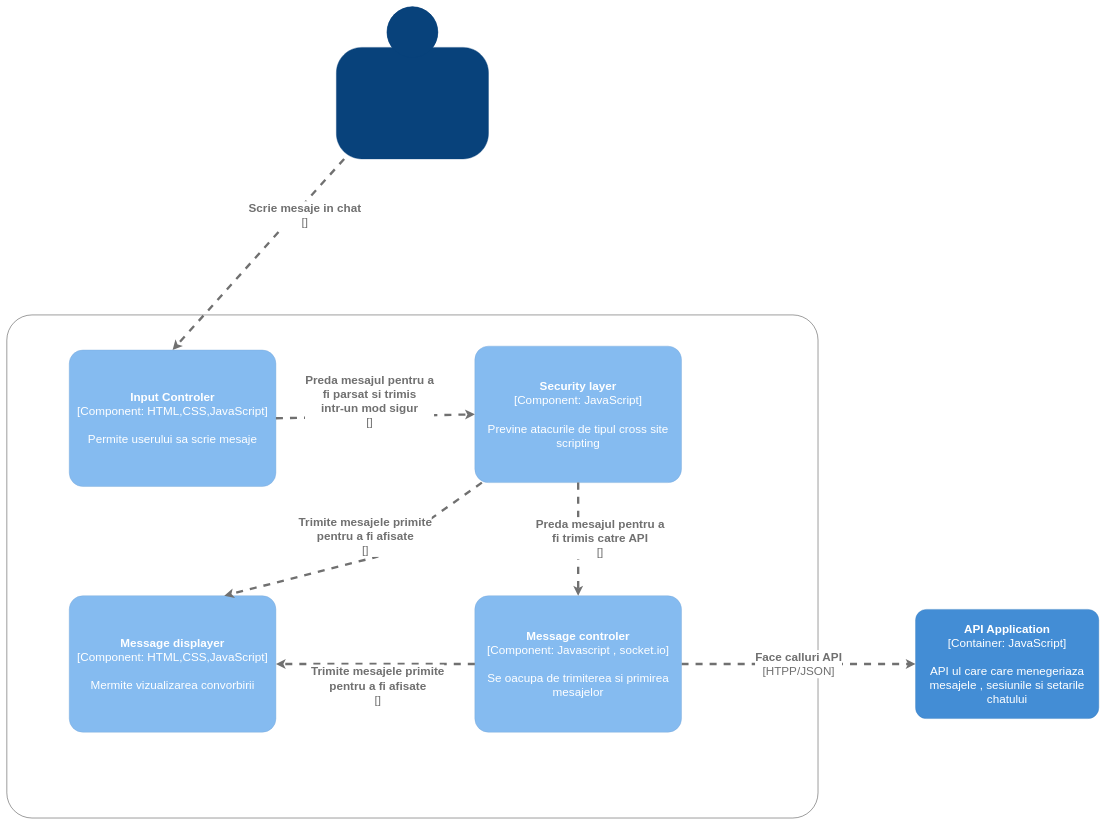
Some shapes in this 1106 by 825 pixel diagram are drawn without their labels. The box of each missing label's shape, as (x1, y1, x2, y2) in pixels:
End user [Person] Persoana care foloseste pop-up chatul implementat de client: (336, 6, 488, 159)
name [applicationAndVersion]: (6, 315, 818, 818)
